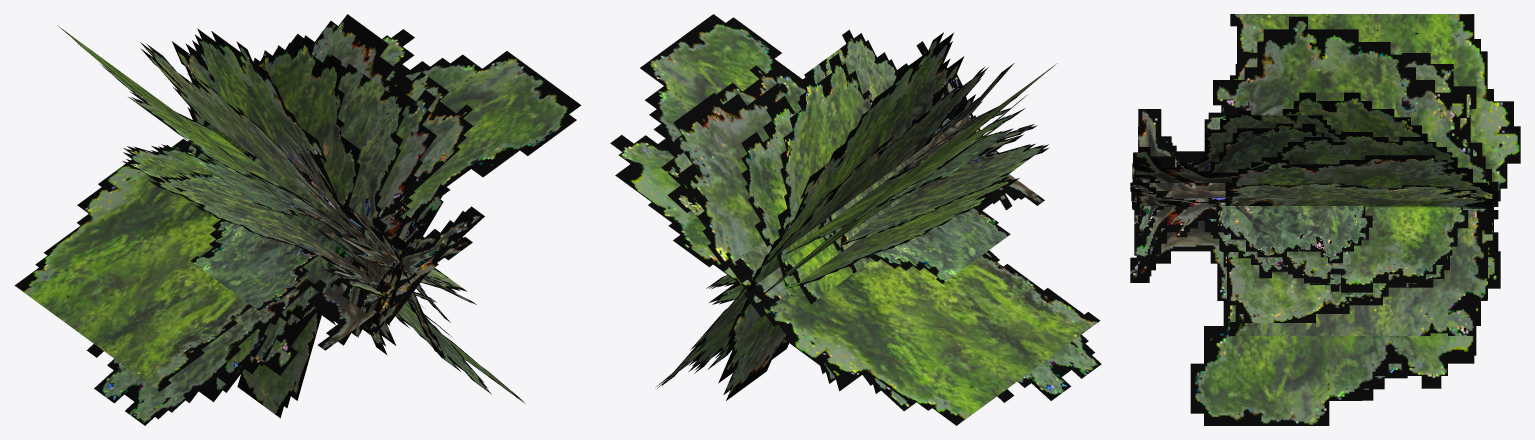
File: treesDouble.glb
3 renders of one model, left to right at view 1: azimuth 30°, elevation 25°; view 2: azimuth 150°, elevation 25°; view 3: azimuth 270°, elevation 25°, orthographic. The views are drawn at different scales.
Parts seen in each view (by area): view 1: Grid.014, Grid.011, Grid.008, Grid.012, Grid.007, Grid.015, Grid.009, Grid.003, Grid.002, Grid.013, Grid.004, Grid.005 (+3 smaller); view 2: Grid.014, Grid.015, Grid.007, Grid.008, Grid.003, Grid.004, Grid.012, Grid.009, Grid.002, Grid.011, Grid.005, Grid.013 (+2 smaller); view 3: Grid.006, Grid.015, Grid.003, Grid.013, Grid.007, Grid, Grid.005, Grid.004, Grid.012, Grid.008, Grid.001, Grid.011 (+1 smaller).
Boxes of the visible parts, <box> form: Grid.014: <box>14,29,581,391</box>; Grid.011: <box>252,63,421,337</box>; Grid.008: <box>195,35,406,418</box>; Grid.012: <box>86,72,484,425</box>; Grid.007: <box>185,14,473,402</box>; Grid.015: <box>172,28,445,358</box>; Grid.009: <box>190,191,463,310</box>; Grid.003: <box>140,42,491,394</box>; Grid.002: <box>159,171,436,302</box>; Grid.013: <box>128,89,476,304</box>; Grid.004: <box>194,42,446,385</box>; Grid.005: <box>122,144,466,302</box>; Grid.014: <box>610,14,1100,425</box>; Grid.015: <box>718,32,975,400</box>; Grid.007: <box>673,63,908,387</box>; Grid.008: <box>777,53,975,393</box>; Grid.003: <box>662,63,1014,385</box>; Grid.004: <box>741,41,1012,303</box>; Grid.012: <box>661,65,1101,411</box>; Grid.009: <box>866,150,1010,283</box>; Grid.002: <box>840,124,1049,245</box>; Grid.011: <box>804,29,978,273</box>; Grid.005: <box>709,134,1023,304</box>; Grid.013: <box>706,97,1025,289</box>; Grid.006: <box>1131,14,1520,425</box>; Grid.015: <box>1130,16,1498,282</box>; Grid.003: <box>1132,41,1487,400</box>; Grid.013: <box>1134,136,1468,292</box>; Grid.007: <box>1130,155,1498,219</box>; Grid: <box>1138,105,1372,263</box>; Grid.005: <box>1132,182,1449,322</box>; Grid.004: <box>1134,132,1468,182</box>; Grid.012: <box>1132,183,1482,203</box>; Grid.008: <box>1132,92,1427,202</box>; Grid.001: <box>1136,123,1332,179</box>; Grid.011: <box>1133,110,1340,171</box>.
Size of the model in its own units: 10.63 by 9.26 by 10.31.
9 materials, 9 textured.
